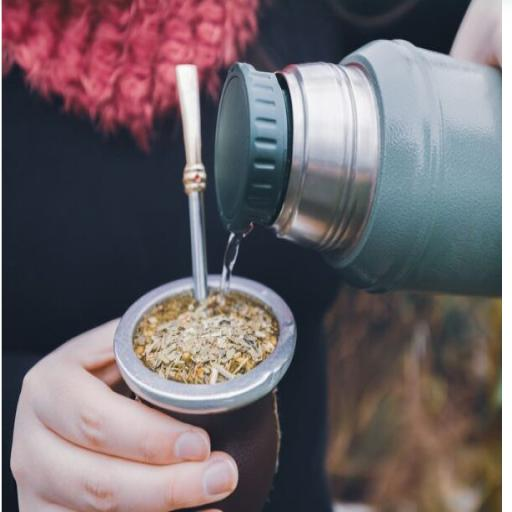mate: (114, 277, 295, 511)
termo: (215, 40, 501, 295)
